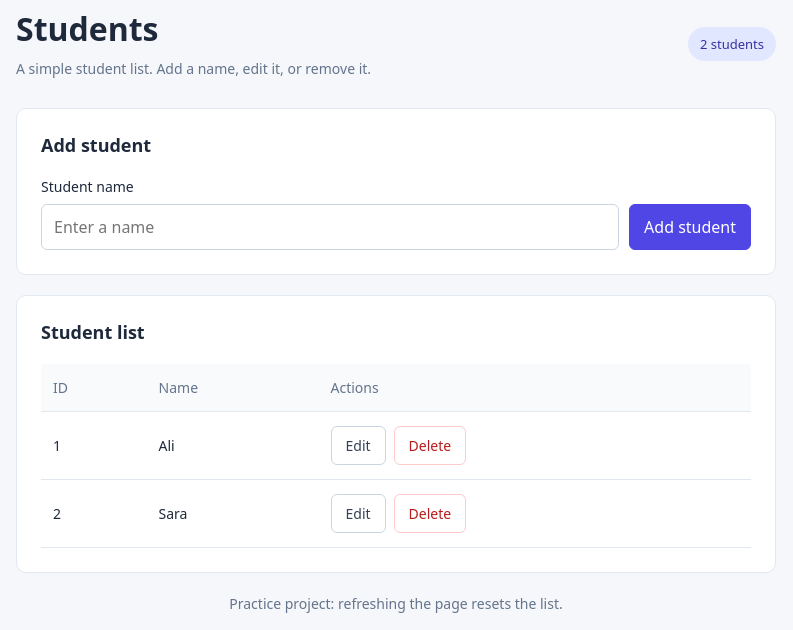
Test: StudentsComponent › should show an empty message after deleting all students
Click the button with aria-label "Delete Ali": [430, 446] box [394, 426, 466, 465]
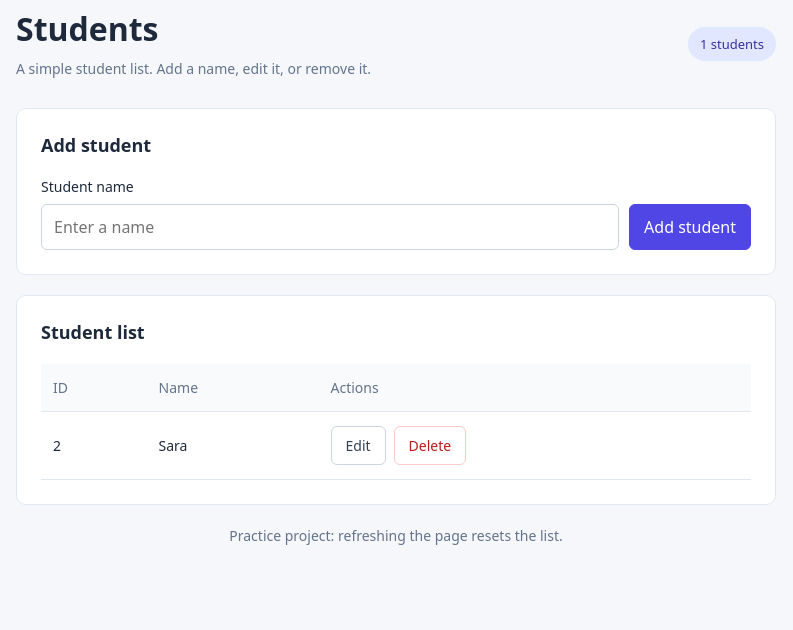
Click the button with aria-label "Delete Sara": [430, 446] box [394, 426, 466, 465]
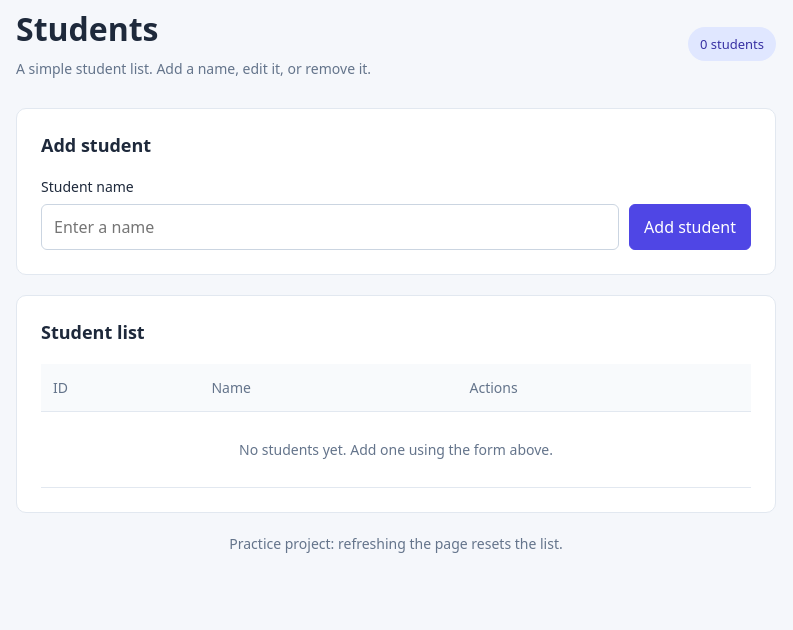
Check: the cell with class "empty" shows "No students yet.", box [239, 440, 553, 459]
